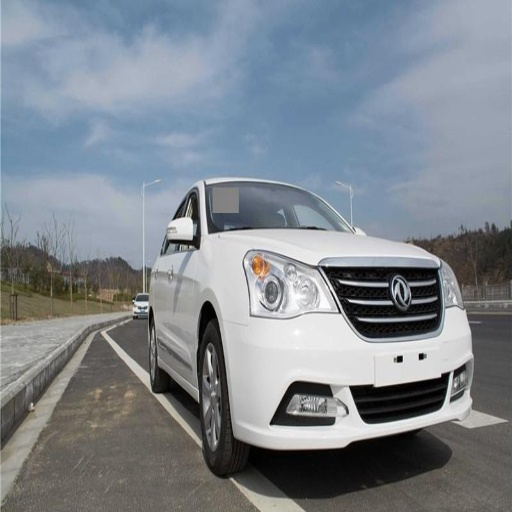front_bumper: (223, 265, 472, 448)
front_glass: (207, 182, 352, 229)
front_right_door: (158, 188, 200, 375)
front_right_light: (242, 249, 336, 317)
hood: (241, 229, 440, 265)
